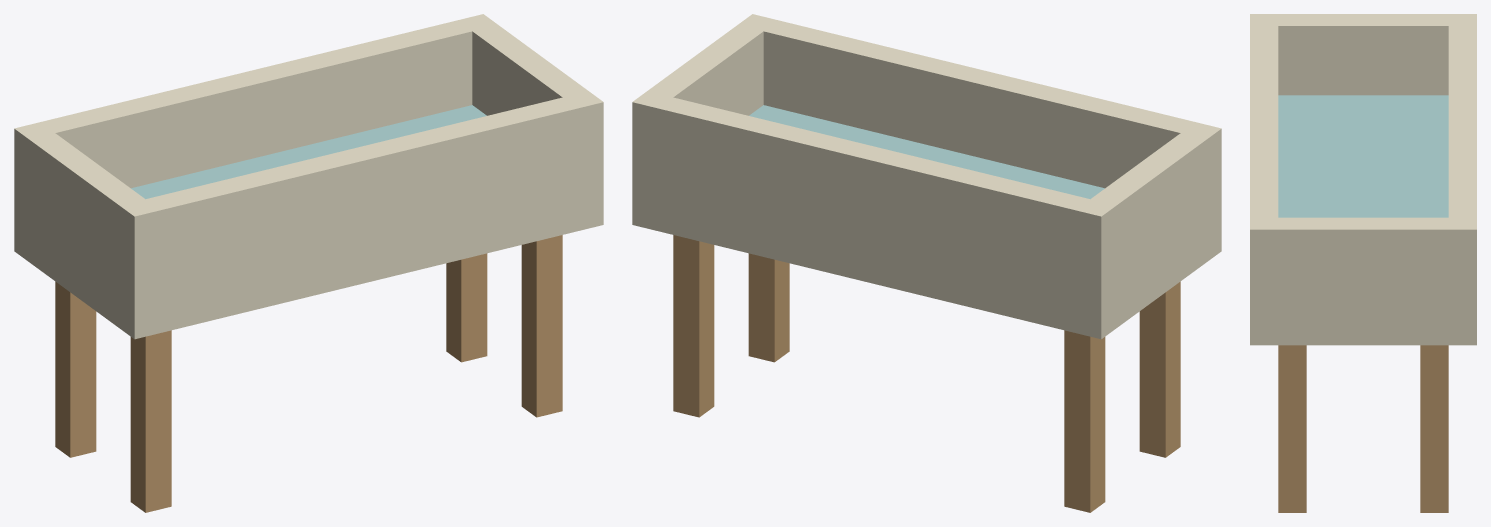
Rendered from cozy-farm-and-homestead-wash-trough-0777d6e7__19415.glb.
3 views of the same model, side by side, from view 1: azimuth 30°, elevation 25°; view 2: azimuth 150°, elevation 25°; view 3: azimuth 270°, elevation 25° (orthographic). The views are drawn at different scales.
Parts seen in each view (by area): view 1: wash-trough; view 2: wash-trough; view 3: wash-trough.
Part boxes in pixels (x1,y1,x2,y2): wash-trough: (14, 14, 603, 512); wash-trough: (632, 14, 1221, 512); wash-trough: (1250, 14, 1476, 512).
Bounding box in the file's own units: 1.8 × 1.15 × 0.7999.
